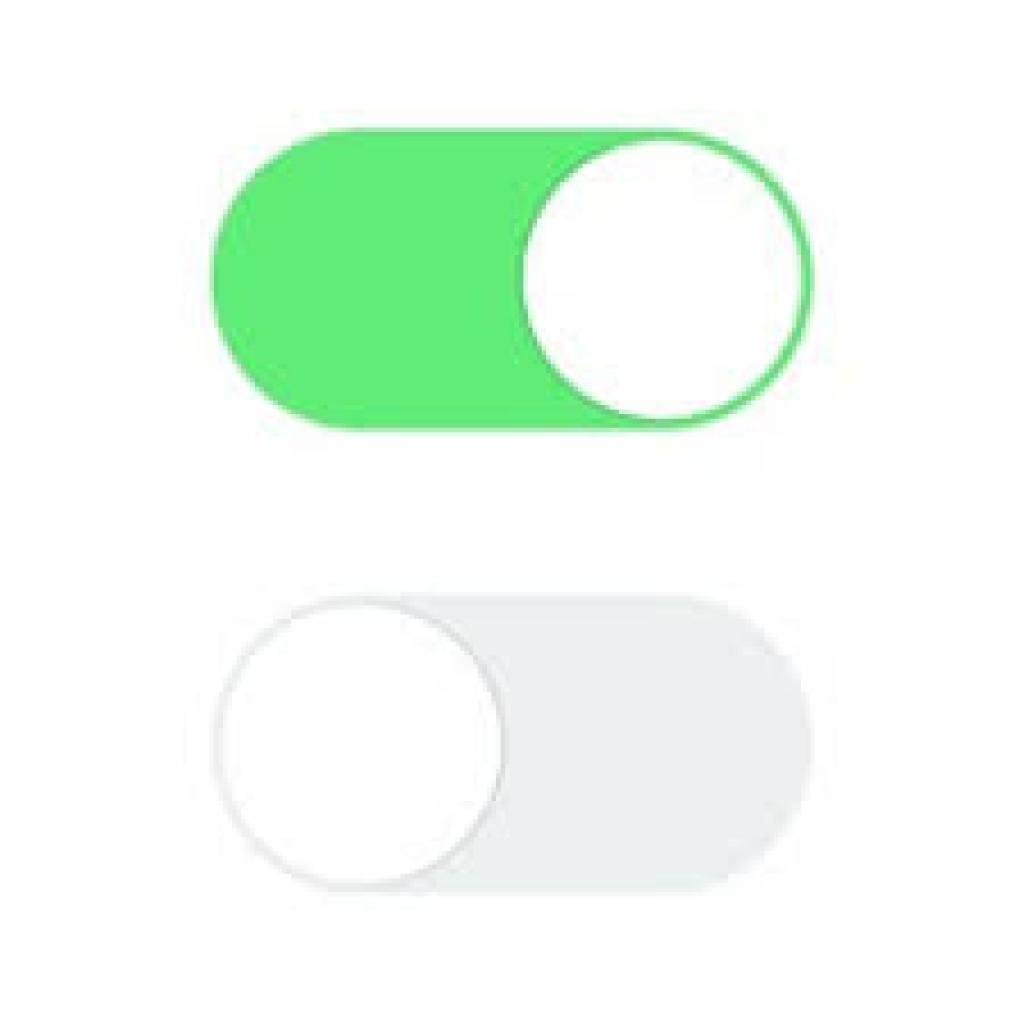switch: (182, 103, 835, 453), (194, 581, 839, 913)
